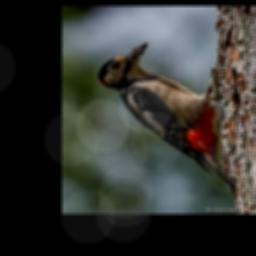Woodpecker: (98, 42, 237, 196)
